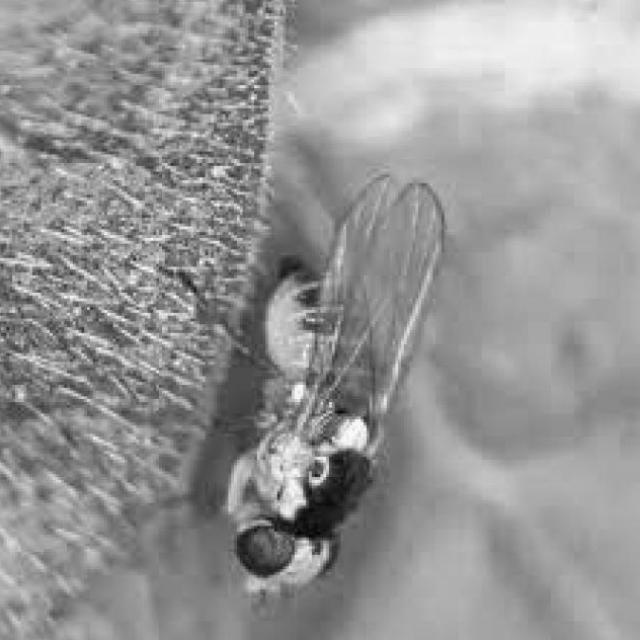Serpentine leafminer: (195, 158, 452, 608)
